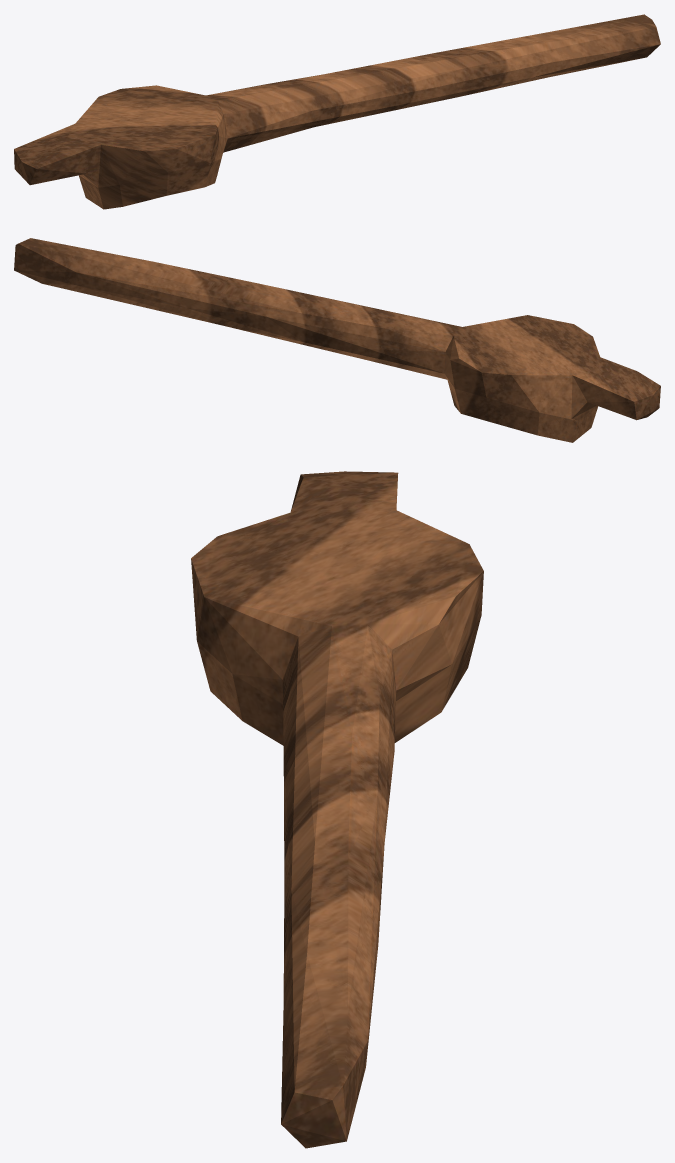
File: yaktle_handle.fbx
The picture shows the model from 3 angles, top to bottom: view 1: azimuth 30°, elevation 25°; view 2: azimuth 150°, elevation 25°; view 3: azimuth 270°, elevation 25°; orthographic projection. The views are drawn at different scales.
Visible parts, largest first — view 1: Yaktle_handle_1; view 2: Yaktle_handle_1; view 3: Yaktle_handle_1.
Boxes of the visible parts, x1,y1,x2,y2 form: Yaktle_handle_1: (14,14,660,209); Yaktle_handle_1: (14,238,660,442); Yaktle_handle_1: (191,471,483,1148).
Bounding box in the file's own units: 286 × 32.81 × 57.78.
1 material, 1 textured.
